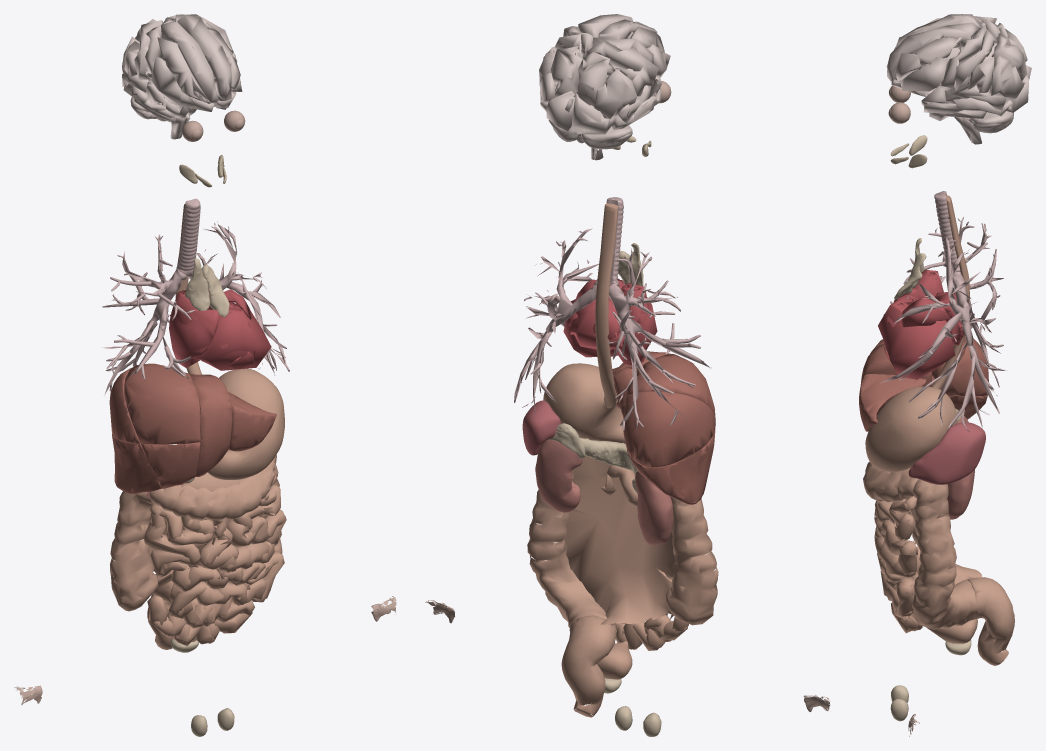
File: organs.glb
The picture shows the model from 3 angles, left to right: view 1: azimuth 30°, elevation 25°; view 2: azimuth 150°, elevation 25°; view 3: azimuth 270°, elevation 25°; orthographic projection. The views are drawn at different scales.
Parts seen in each view (by area): view 1: foie, intestin-grele, encephale, gros-intestin, poumons, coeur, estomac, thymus, trachee, oeil-g, oeil-d; view 2: gros-intestin, encephale, foie, poumons, estomac, coeur, oesophage, intestin-grele, rein-g, rein-d, rate, cervelet (+3 smaller); view 3: encephale, gros-intestin, poumons, estomac, coeur, intestin-grele, foie, rate, oesophage, rein-g, trachee, vessie (+5 smaller).
Part boxes in pixels (<box>): foie: <box>109,363,276,493</box>; intestin-grele: <box>143,471,286,646</box>; encephale: <box>122,14,242,139</box>; gros-intestin: <box>110,455,282,649</box>; poumons: <box>102,221,289,394</box>; coeur: <box>168,289,271,370</box>; estomac: <box>207,368,284,479</box>; thymus: <box>185,258,229,316</box>; trachee: <box>176,198,200,276</box>; oeil-g: <box>224,110,396,621</box>; oeil-d: <box>14,120,203,704</box>; gros-intestin: <box>527,454,718,717</box>; encephale: <box>539,14,670,160</box>; foie: <box>612,351,715,504</box>; poumons: <box>514,228,711,430</box>; estomac: <box>543,363,625,443</box>; coeur: <box>563,278,657,365</box>; oesophage: <box>595,203,618,408</box>; intestin-grele: <box>600,465,688,650</box>; rein-g: <box>535,440,582,512</box>; rein-d: <box>635,471,673,545</box>; rate: <box>522,400,560,455</box>; cervelet: <box>548,120,632,149</box>; encephale: <box>886,14,1031,144</box>; gros-intestin: <box>863,462,1014,665</box>; poumons: <box>880,217,1007,431</box>; estomac: <box>865,386,957,471</box>; coeur: <box>878,119,970,379</box>; intestin-grele: <box>874,490,922,633</box>; foie: <box>859,336,988,431</box>; rate: <box>908,422,985,484</box>; oesophage: <box>931,195,969,389</box>; rein-g: <box>947,469,974,519</box>; trachee: <box>934,191,960,271</box>; vessie: <box>926,619,977,643</box>.
Bounding box in the file's own units: 0.5397 × 0.9382 × 0.2114.
